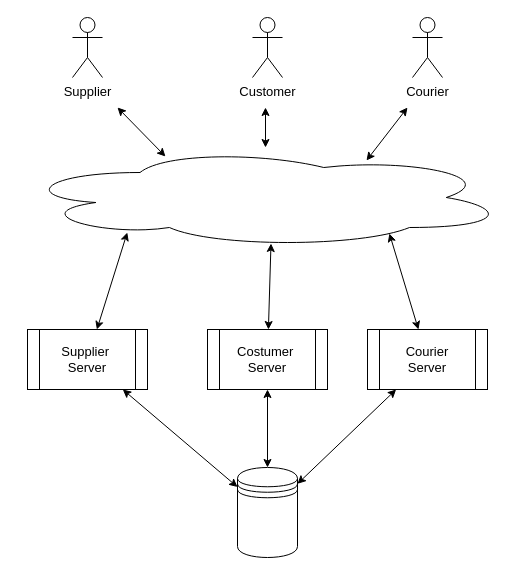
Image size: 525x575. Some labels were removed from this diagram. The centre of each missing label's shape, as x and y in pixels:
"DB" goes at point 267,512.
"Internet" goes at point 262,197.
